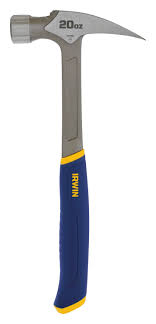hammer: (9, 10, 146, 314)
